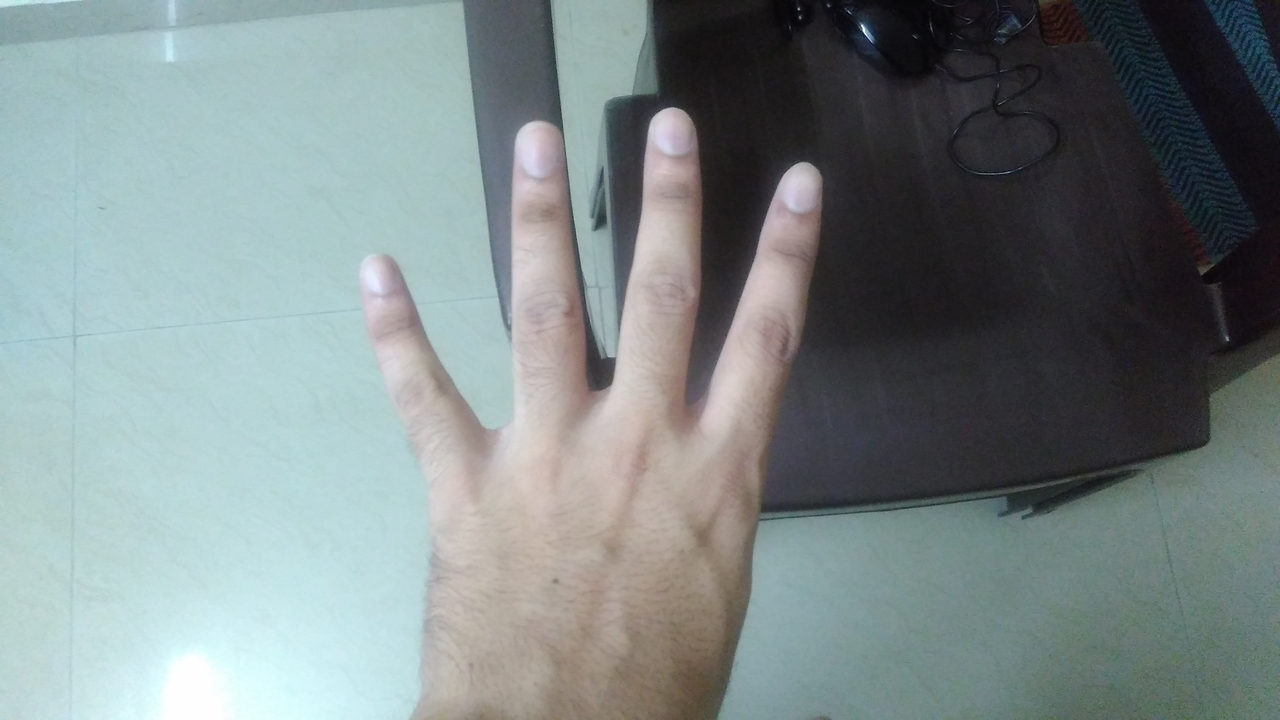fingertip: (640, 102, 704, 170), (772, 156, 834, 220), (348, 246, 408, 308), (500, 118, 564, 176)
